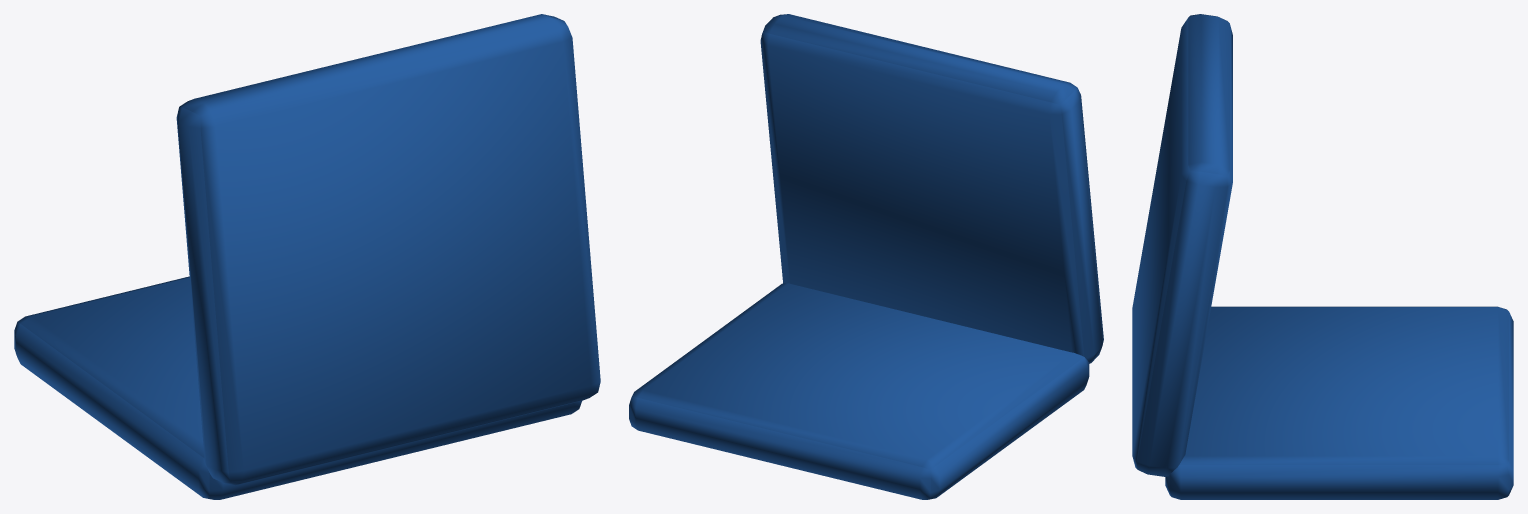
File: seat.glb
The picture shows the model from 3 angles, left to right: view 1: azimuth 30°, elevation 25°; view 2: azimuth 150°, elevation 25°; view 3: azimuth 270°, elevation 25°; orthographic projection. The views are drawn at different scales.
Visible parts, largest first — view 1: Seat; view 2: Seat; view 3: Seat.
Part boxes in pixels (left/top/right/bottom): Seat: left=14, top=14, right=600, bottom=499; Seat: left=629, top=14, right=1103, bottom=499; Seat: left=1132, top=14, right=1513, bottom=499.
Bounding box in the file's own units: 0.44 × 0.4266 × 0.4378.
